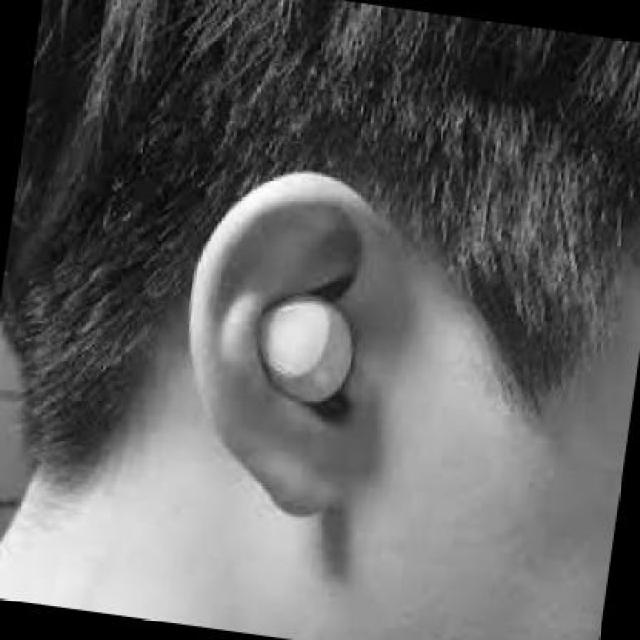earphone: (268, 268, 371, 444)
